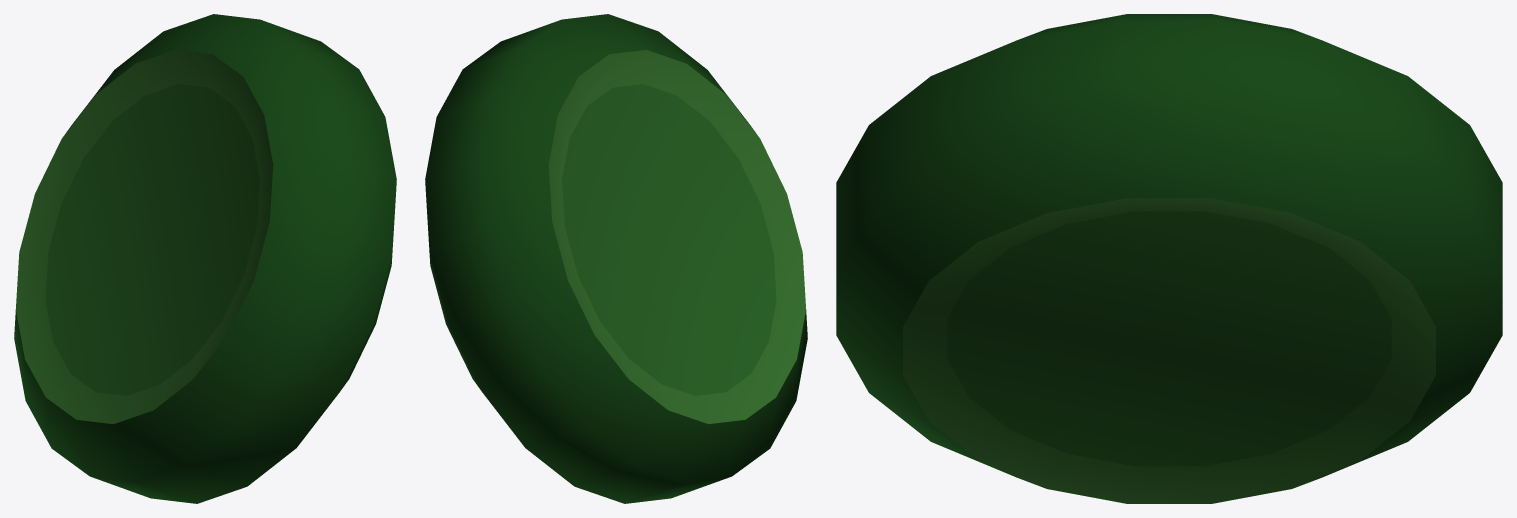
Rendered from tyrian10-1-f2.glb.
3 views of the same model, side by side, from view 1: azimuth 30°, elevation 25°; view 2: azimuth 150°, elevation 25°; view 3: azimuth 270°, elevation 25° (orthographic). The views are drawn at different scales.
Visible parts, largest first — view 1: tyrian10-1-f2; view 2: tyrian10-1-f2; view 3: tyrian10-1-f2.
Boxes of the visible parts, box(x1,y1,x2,y2) form: tyrian10-1-f2: box(14, 14, 396, 503); tyrian10-1-f2: box(425, 14, 807, 503); tyrian10-1-f2: box(836, 14, 1502, 503).
Bounding box in the file's own units: 0.5128 × 0.704 × 0.7408.
